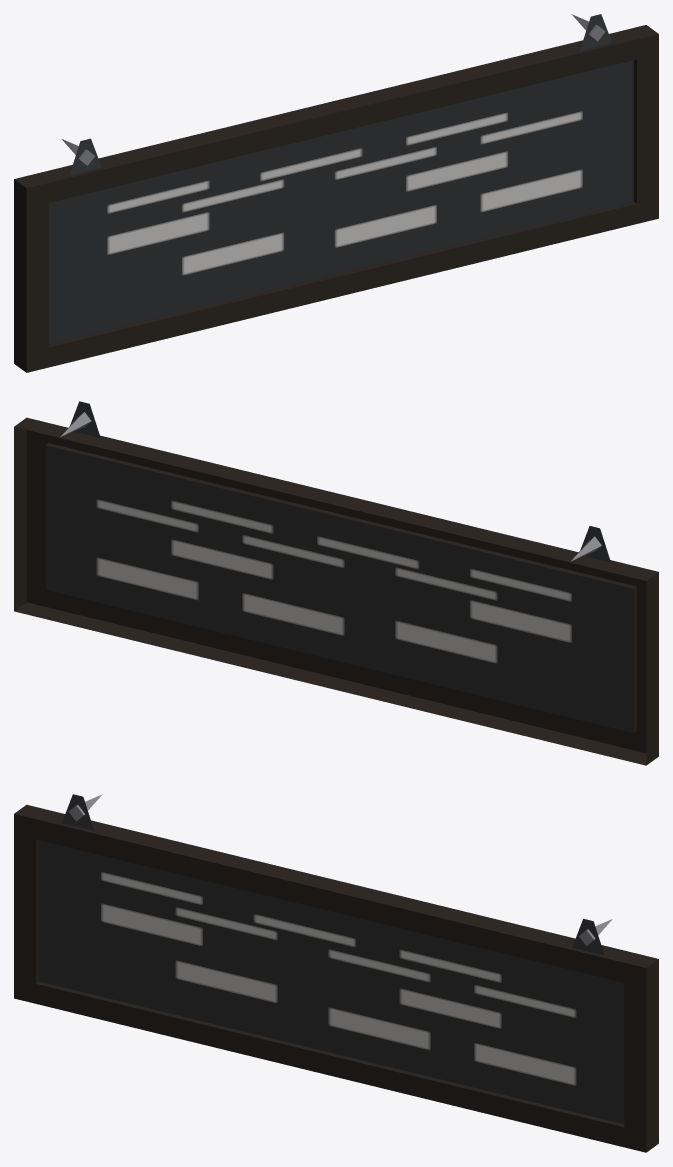
The model's file is Paint_Notice_1.fbx.
3 renders of one model, top to bottom at view 1: azimuth 30°, elevation 25°; view 2: azimuth 150°, elevation 25°; view 3: azimuth 330°, elevation 25°, orthographic.
Visible parts, largest first — view 1: polySurface1362; view 2: polySurface1362; view 3: polySurface1362.
Part boxes in pixels (left/top/right/bottom): polySurface1362: left=14, top=14, right=658, bottom=372; polySurface1362: left=14, top=401, right=658, bottom=765; polySurface1362: left=14, top=794, right=658, bottom=1152.
Bounding box in the file's own units: 173 × 56.69 × 12.91.
